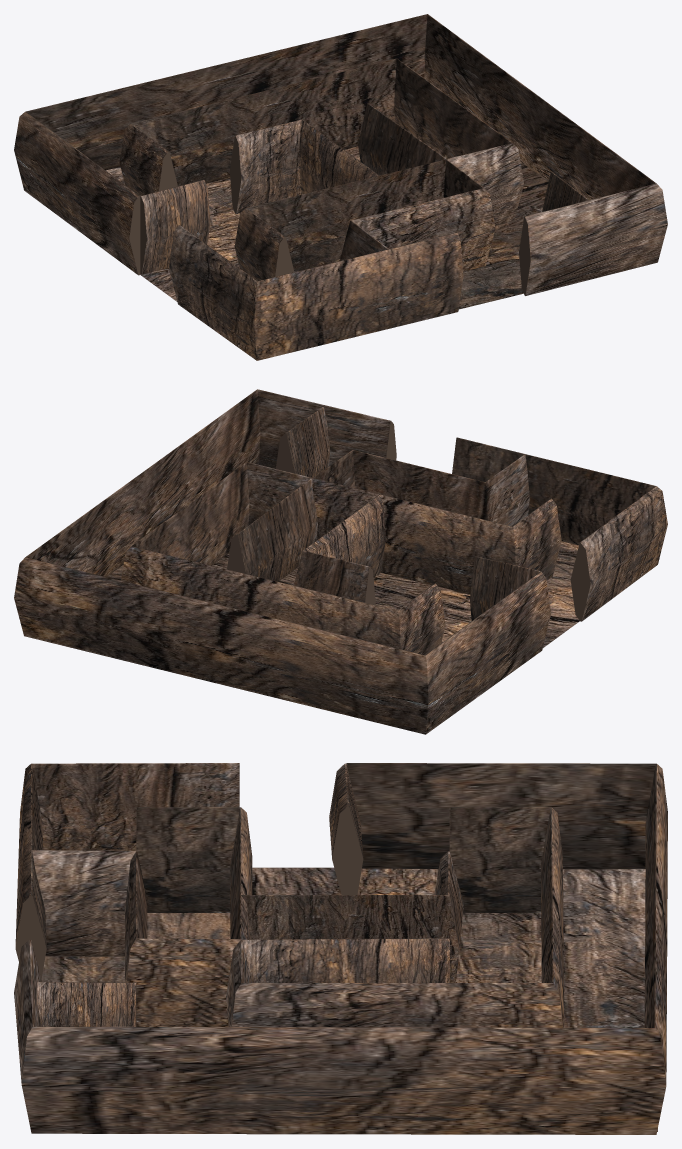
The model's file is Maze.obj.
3 views of the same model, one above another, from view 1: azimuth 30°, elevation 25°; view 2: azimuth 150°, elevation 25°; view 3: azimuth 270°, elevation 25° (orthographic). The views are drawn at different scales.
Parts seen in each view (by area): view 1: default; view 2: default; view 3: default.
Part boxes in pixels (x1,y1,x2,y2): default: (14, 14, 667, 360); default: (14, 389, 667, 734); default: (14, 763, 667, 1134).
Size of the model in its own units: 6.28 by 1.13 by 6.28.
Materials: 1 (1 with a texture image).
